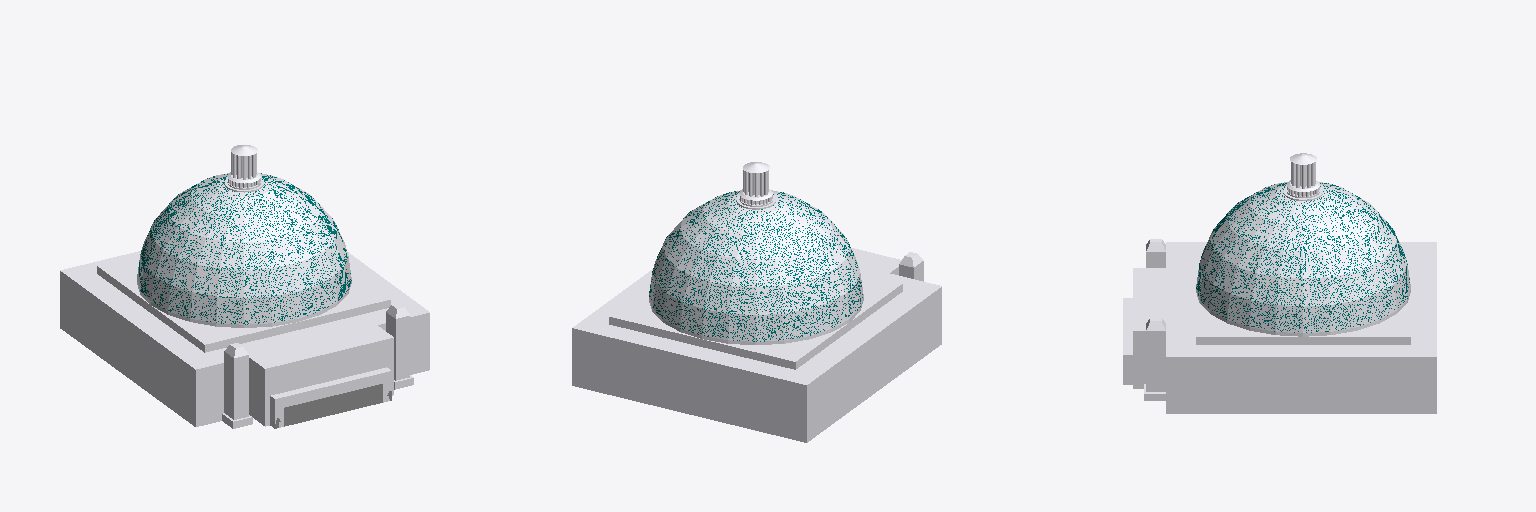
3 renders of one model, left to right at view 1: azimuth 30°, elevation 25°; view 2: azimuth 150°, elevation 25°; view 3: azimuth 270°, elevation 25°, orthographic.
Visible parts, largest first — view 1: SketchUp, SketchUp_ID30; view 2: SketchUp, SketchUp_ID30; view 3: SketchUp, SketchUp_ID30.
Part boxes in pixels (x1,y1,x2,y2): SketchUp: (60,145,429,428); SketchUp_ID30: (139,173,351,324); SketchUp: (572,162,941,442); SketchUp_ID30: (649,191,862,341); SketchUp: (1123,153,1436,413); SketchUp_ID30: (1196,183,1409,332).
Size of the model in its own units: 315 by 259 by 365.